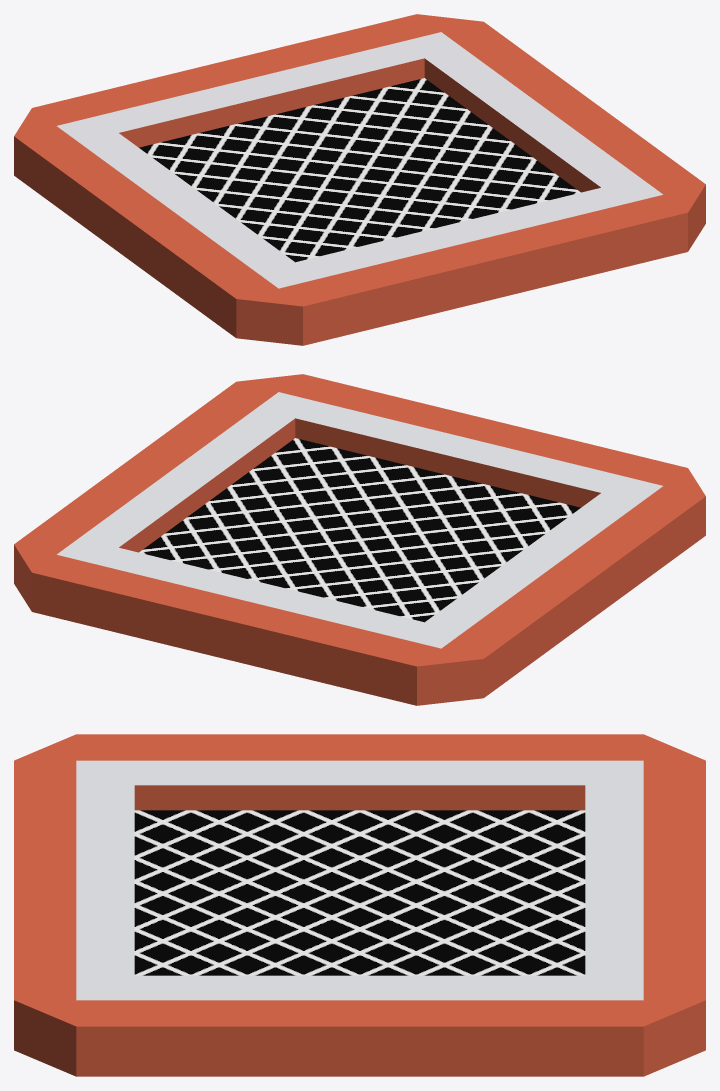
File: metalTile.glb
The picture shows the model from 3 angles, top to bottom: view 1: azimuth 30°, elevation 25°; view 2: azimuth 150°, elevation 25°; view 3: azimuth 270°, elevation 25°; orthographic projection. The views are drawn at different scales.
Parts seen in each view (by area): view 1: metalTile; view 2: metalTile; view 3: metalTile.
Boxes of the visible parts, x1,y1,x2,y2 form: metalTile: (14, 14, 705, 345); metalTile: (14, 374, 705, 705); metalTile: (14, 734, 705, 1076).
Size of the model in its own units: 10 by 0.8 by 10.
3 materials, 1 textured.
